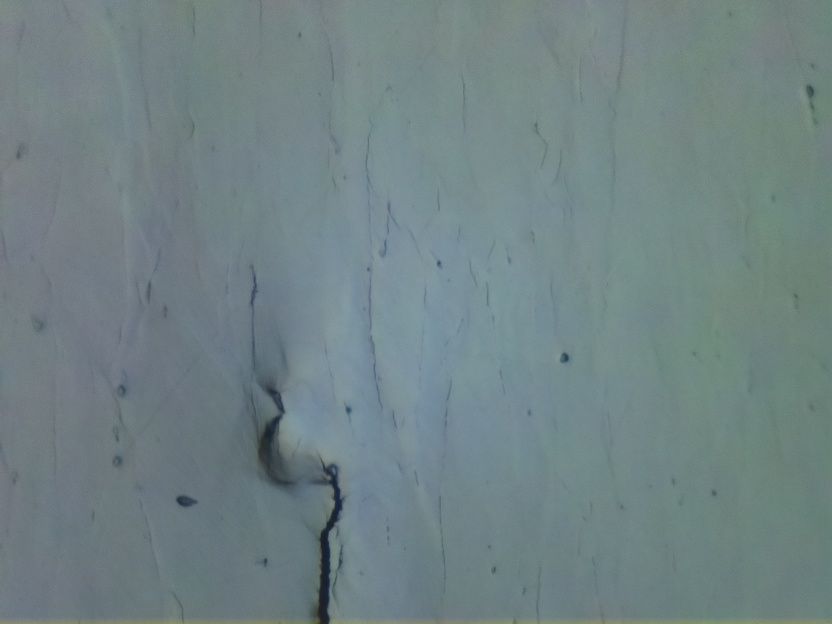crack: (318, 464, 346, 624)
